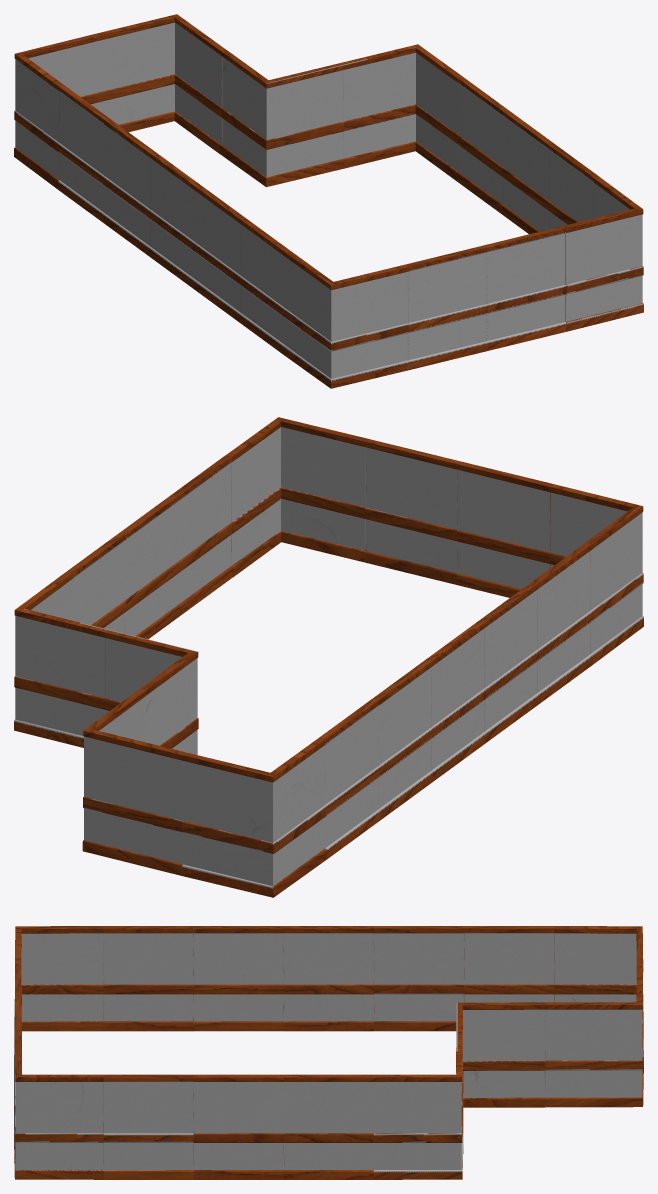
The model's file is APT_walls.glb.
3 renders of one model, top to bottom at view 1: azimuth 30°, elevation 25°; view 2: azimuth 150°, elevation 25°; view 3: azimuth 270°, elevation 25°, orthographic. The views are drawn at different scales.
Parts seen in each view (by area): view 1: APT_Walls; view 2: APT_Walls; view 3: APT_Walls.
Boxes of the visible parts, x1,y1,x2,y2 form: APT_Walls: (14,14,643,388); APT_Walls: (14,417,643,897); APT_Walls: (14,926,643,1179).
Size of the model in its own units: 7.99 by 2.5 by 13.98.
Materials: 1 (1 with a texture image).
